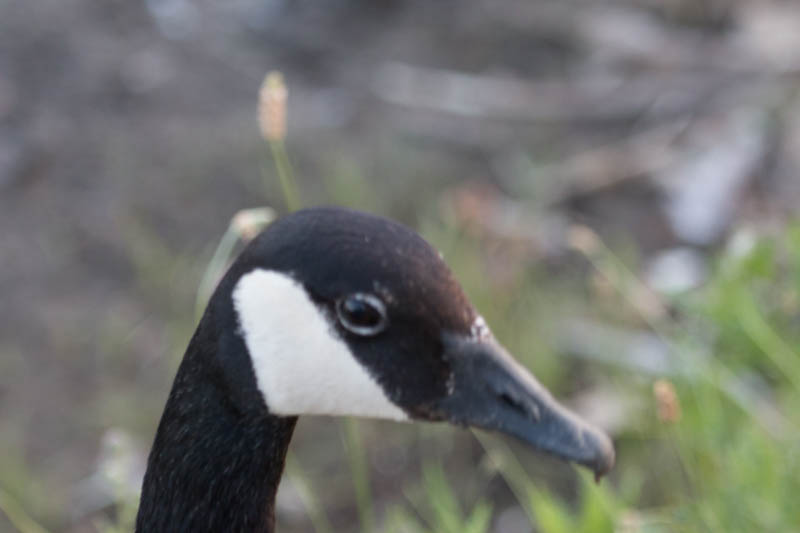goose-head: (175, 206, 616, 475)
